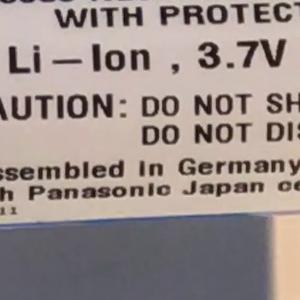keyword: (188, 29, 291, 79)
